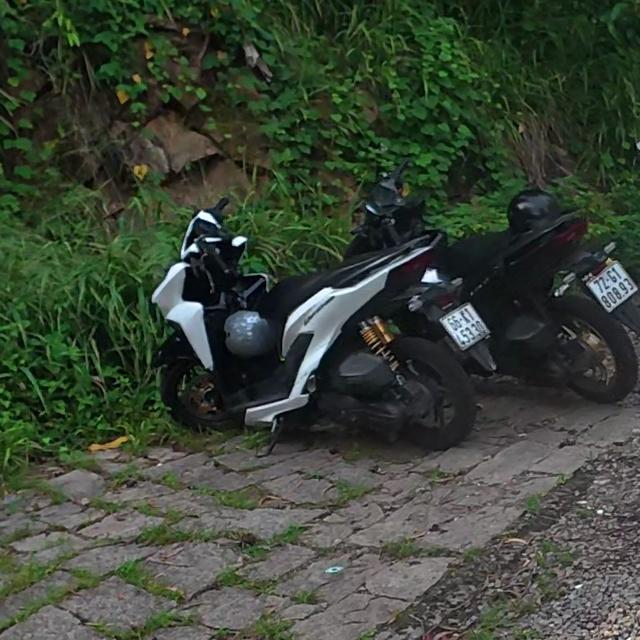license-plate: (584, 262, 637, 313), (440, 302, 491, 350)
